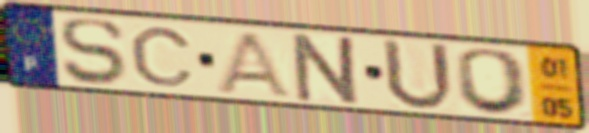A: (211, 30, 297, 101)
C: (126, 25, 199, 88)
N: (290, 31, 365, 109)
O: (454, 46, 534, 117)
S: (56, 16, 128, 87)
U: (379, 35, 458, 114)
